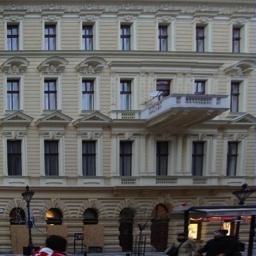building: (0, 0, 256, 218)
